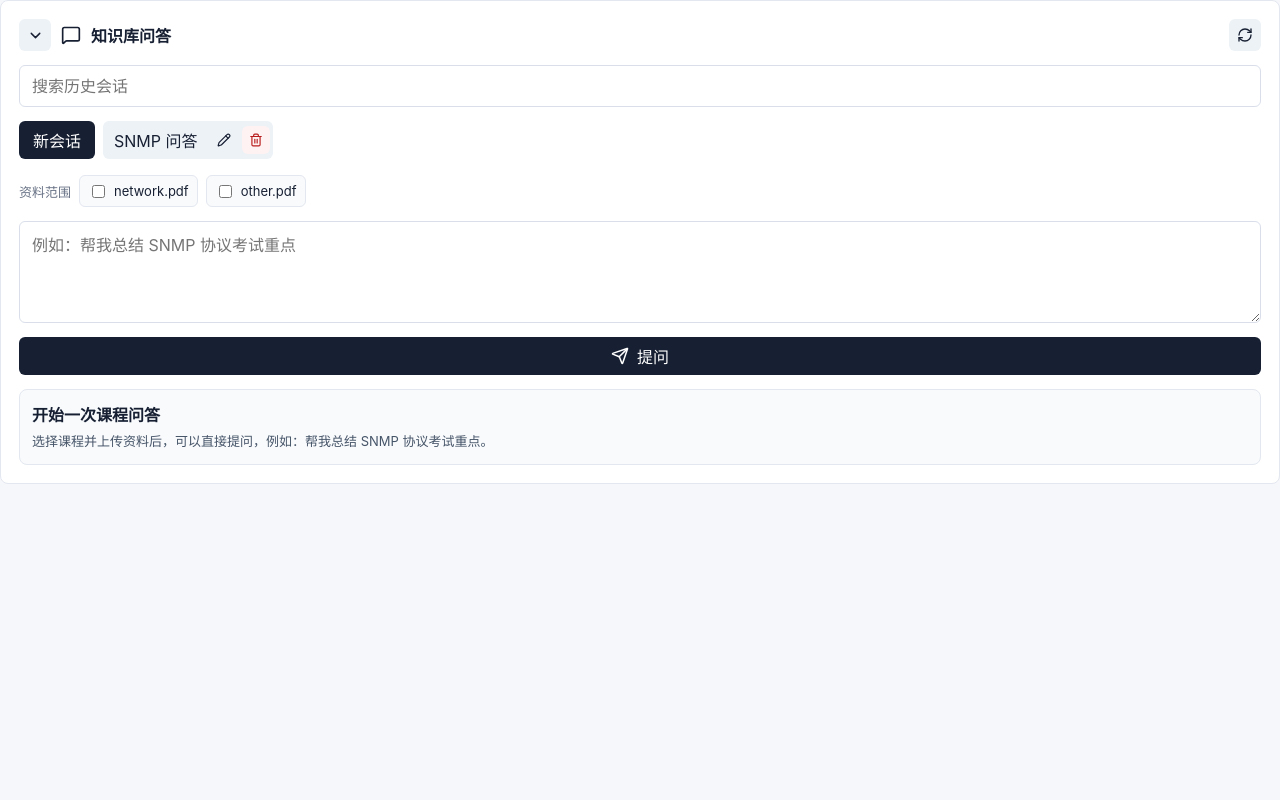
Test case: ChatPanel › supports following up from an answer and reusing cited documents as the ask scope
Click the button with class "session-open-button" at (156, 140), box x1=106 y1=124 x2=206 y2=156
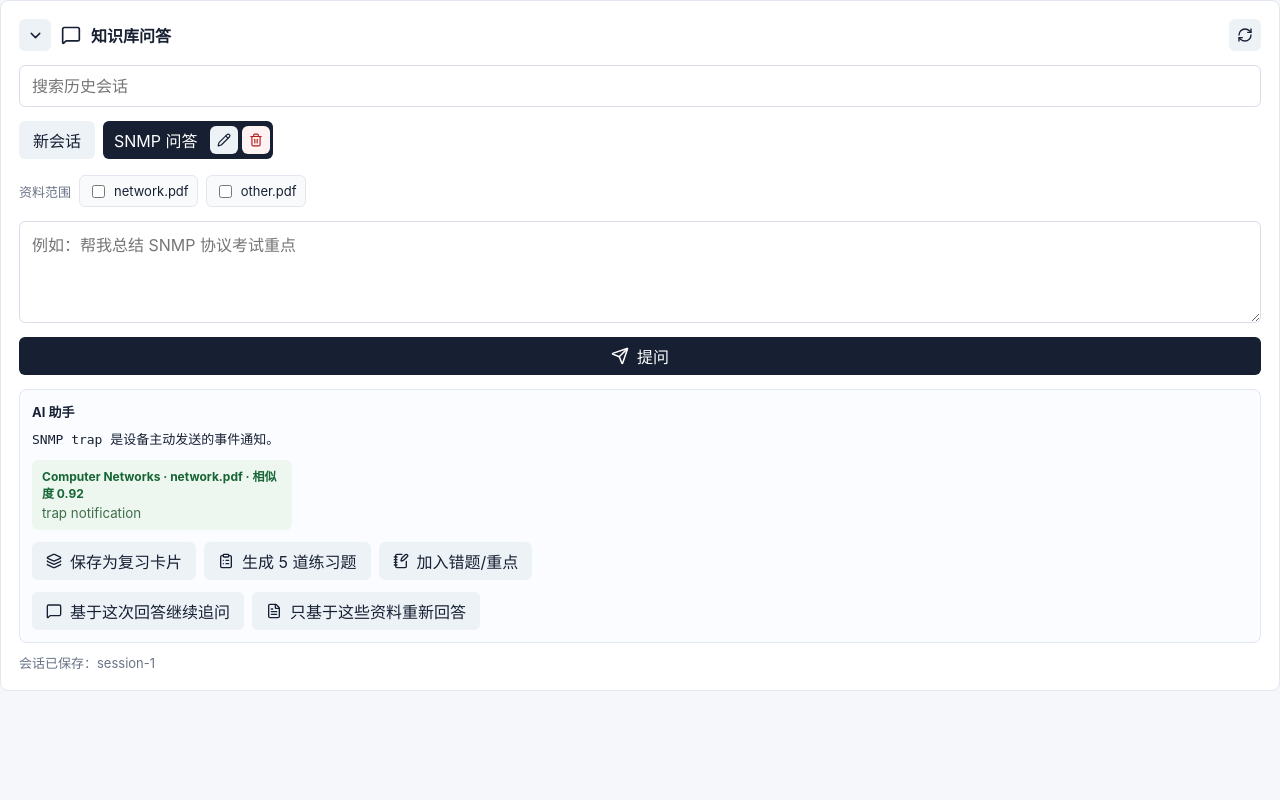
Click the button with test id "follow-up-answer" at (138, 611), box x1=32 y1=592 x2=244 y2=630
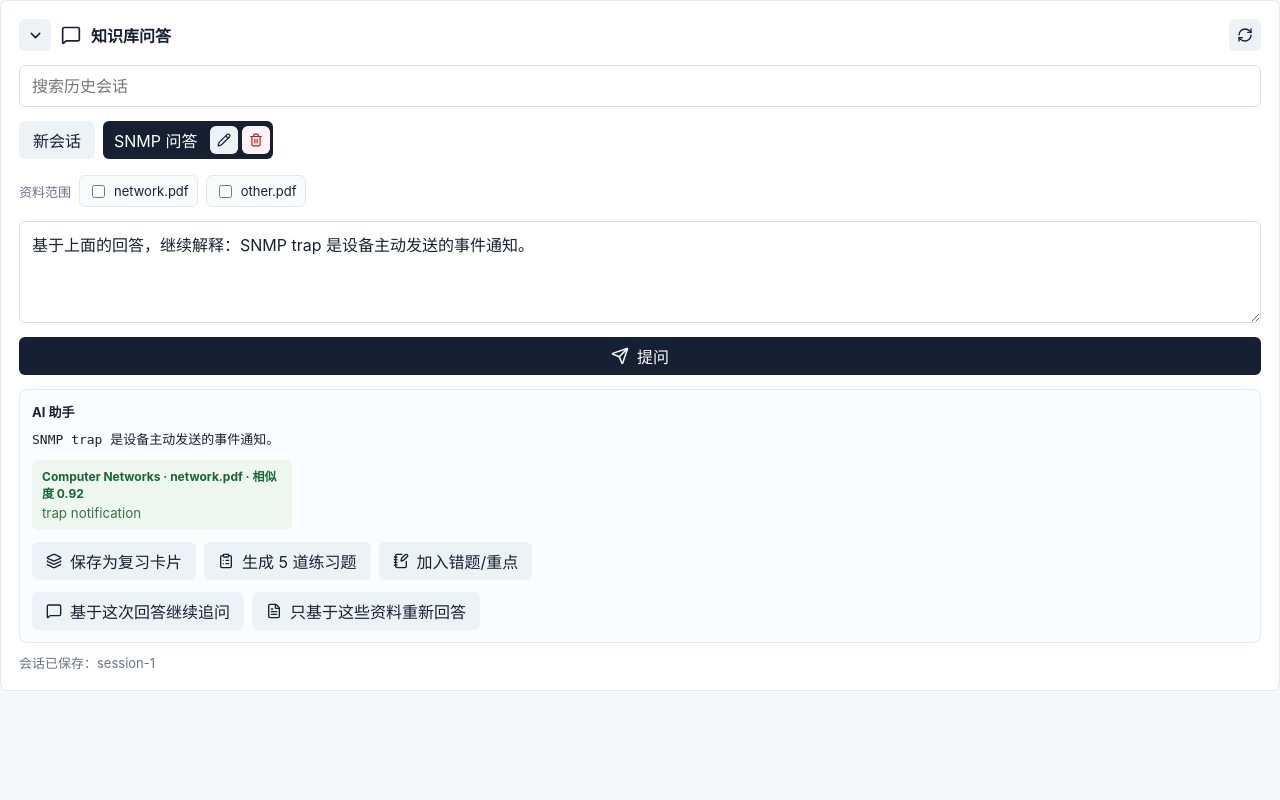
Click the button with test id "use-cited-documents" at (366, 611), box x1=252 y1=592 x2=480 y2=630
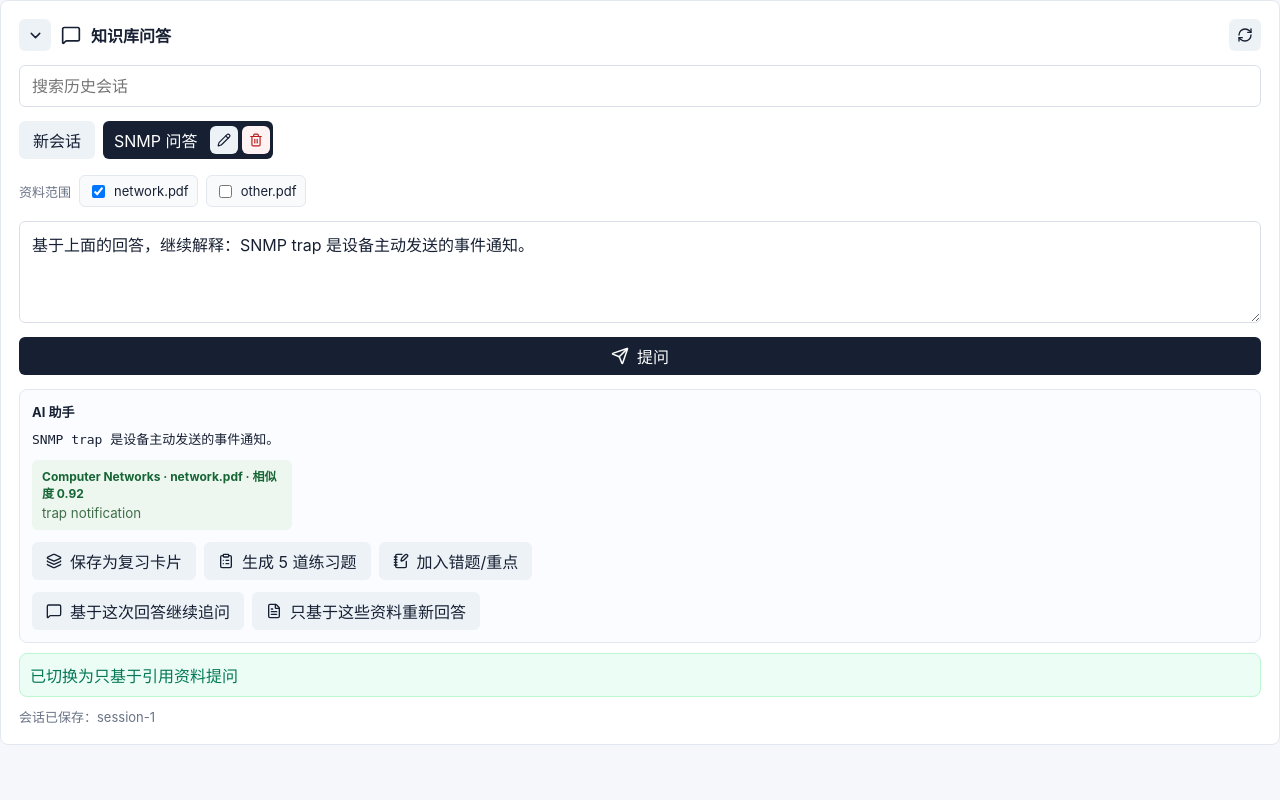
Expected: the checkbox with test id "chat-document-filter" showing "other.pdf" is not checked, x1=219 y1=184 x2=232 y2=198
Expected: the checkbox with test id "chat-document-filter" showing "network.pdf" is checked, x1=92 y1=184 x2=105 y2=198
